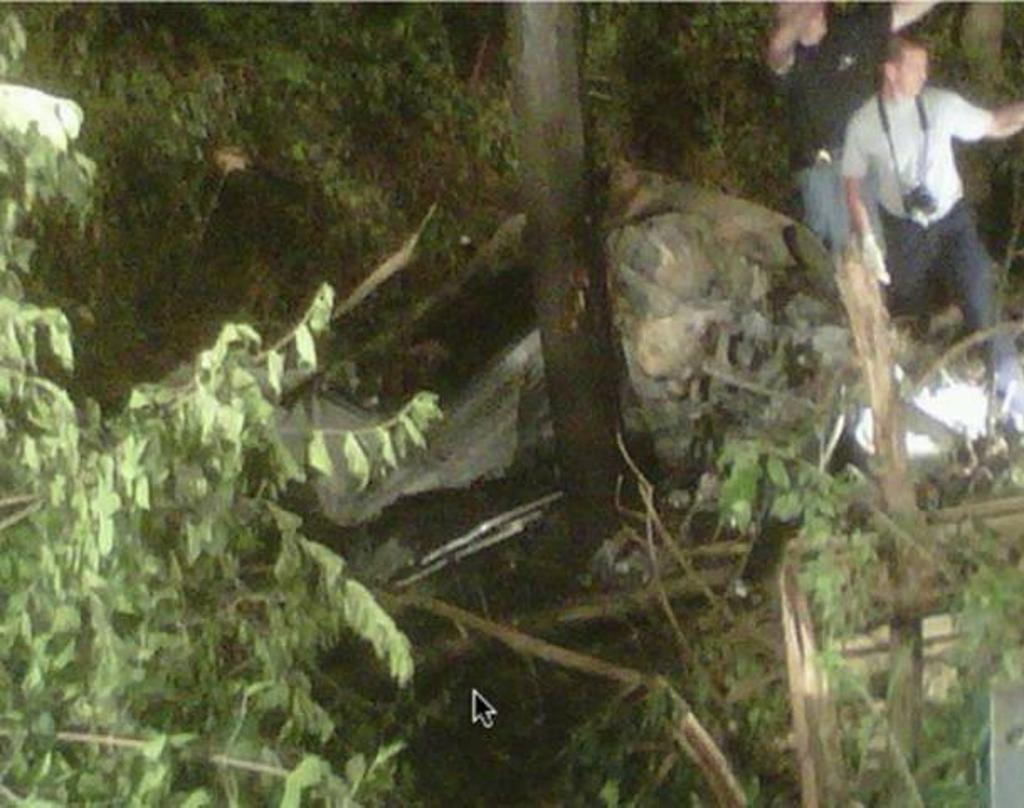face: (893, 52, 927, 96)
